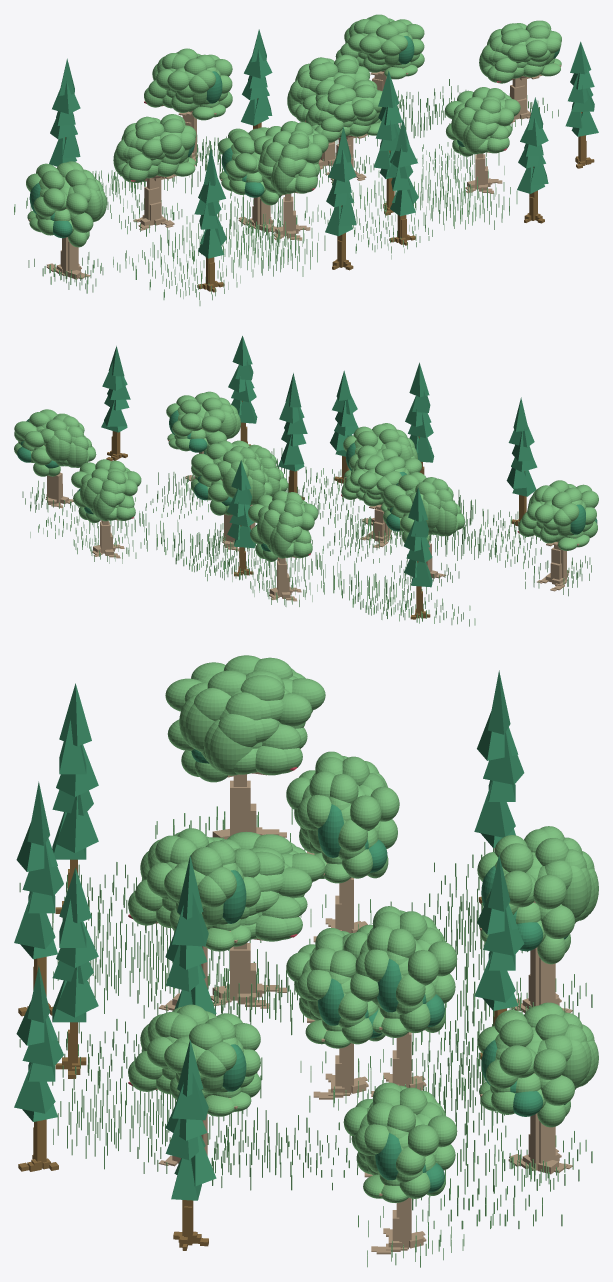
The model's file is Copy of forest.glb.
3 views of the same model, one above another, from view 1: azimuth 30°, elevation 25°; view 2: azimuth 150°, elevation 25°; view 3: azimuth 270°, elevation 25° (orthographic). The views are drawn at different scales.
Parts seen in each view (by area): view 1: Mesh_Mesh_head_geo.001_lambert2SG.001; view 2: Mesh_Mesh_head_geo.001_lambert2SG.001; view 3: Mesh_Mesh_head_geo.001_lambert2SG.001.
Boxes of the visible parts, left/top/right/bottom form: Mesh_Mesh_head_geo.001_lambert2SG.001: left=14, top=14, right=598, bottom=305; Mesh_Mesh_head_geo.001_lambert2SG.001: left=14, top=336, right=598, bottom=626; Mesh_Mesh_head_geo.001_lambert2SG.001: left=14, top=655, right=598, bottom=1267.
Size of the model in its own units: 172 by 40 by 91.57.
